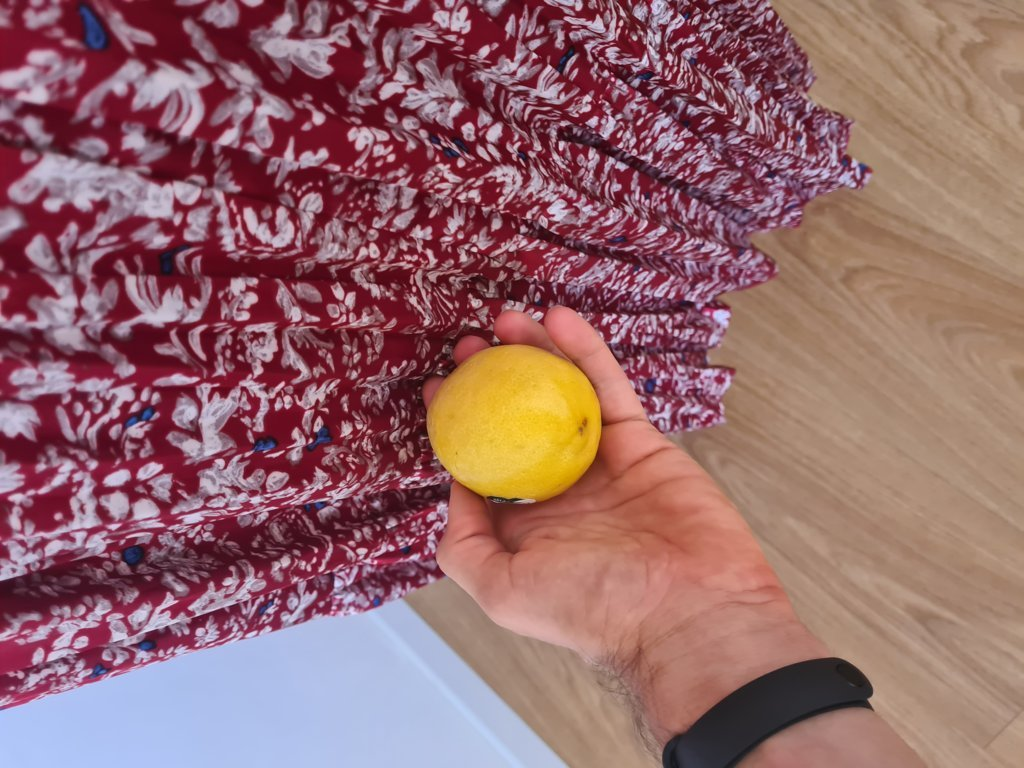lemon: (429, 350, 599, 499)
